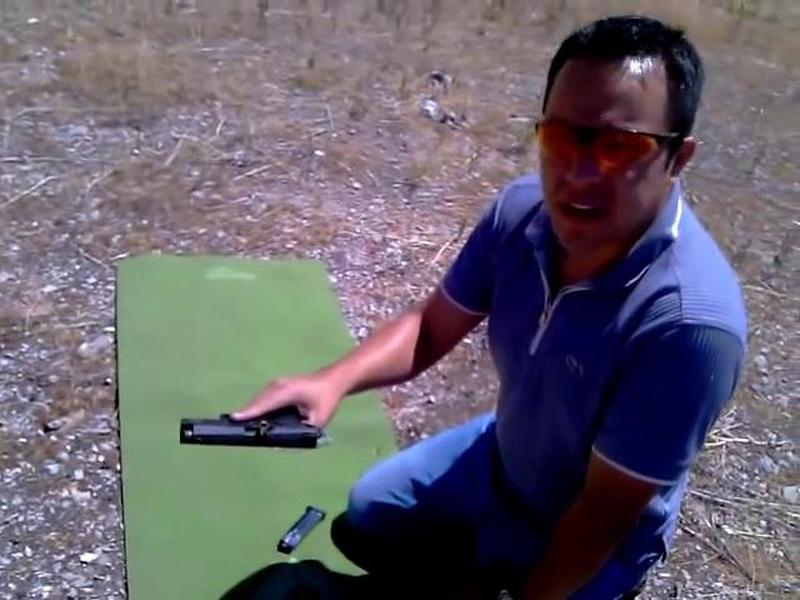Pistola: (168, 379, 348, 486)
